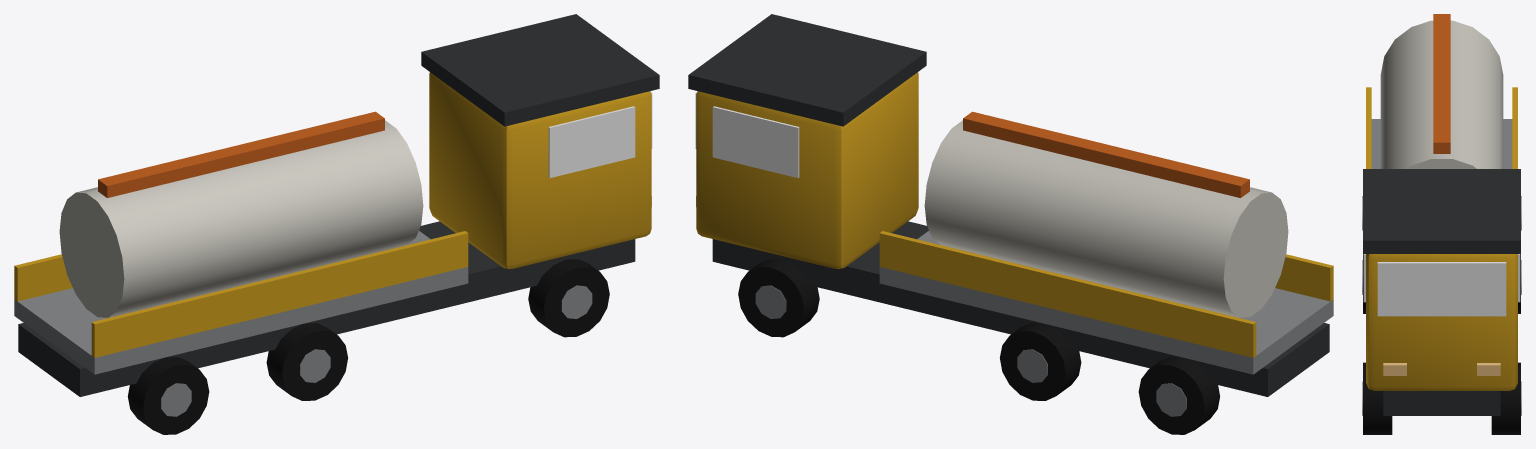
The model's file is hauler-truck.glb.
3 renders of one model, left to right at view 1: azimuth 30°, elevation 25°; view 2: azimuth 150°, elevation 25°; view 3: azimuth 270°, elevation 25°, orthographic. The views are drawn at different scales.
Parts seen in each view (by area): view 1: Piece_lod0; view 2: Piece_lod0; view 3: Piece_lod0.
Part boxes in pixels (left/top/right/bottom): Piece_lod0: left=14, top=14, right=659, bottom=434; Piece_lod0: left=688, top=14, right=1333, bottom=434; Piece_lod0: left=1362, top=14, right=1521, bottom=434.
Size of what is drawn, in the model's own units: 10.71 by 4.32 by 2.72.
